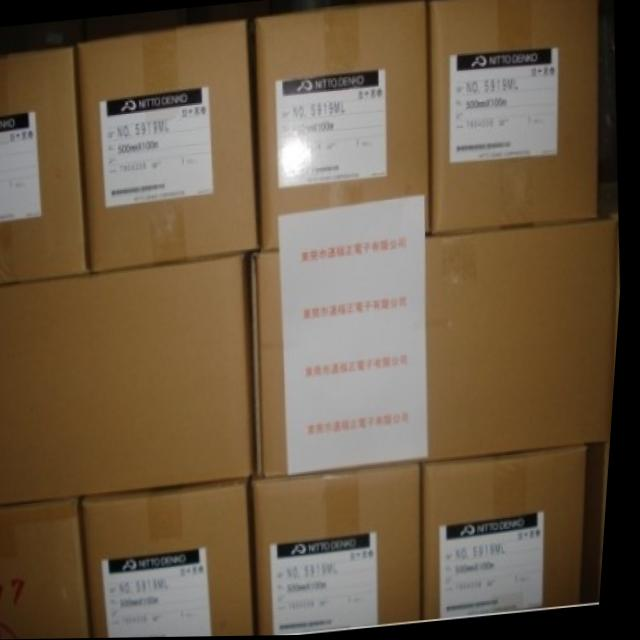box: (0, 252, 258, 508), (431, 154, 617, 464), (77, 20, 262, 272), (253, 2, 433, 253), (425, 0, 600, 234), (257, 461, 430, 636), (426, 445, 593, 621), (87, 480, 266, 638), (0, 47, 94, 285), (0, 499, 99, 640), (254, 251, 296, 480), (592, 443, 616, 606)
